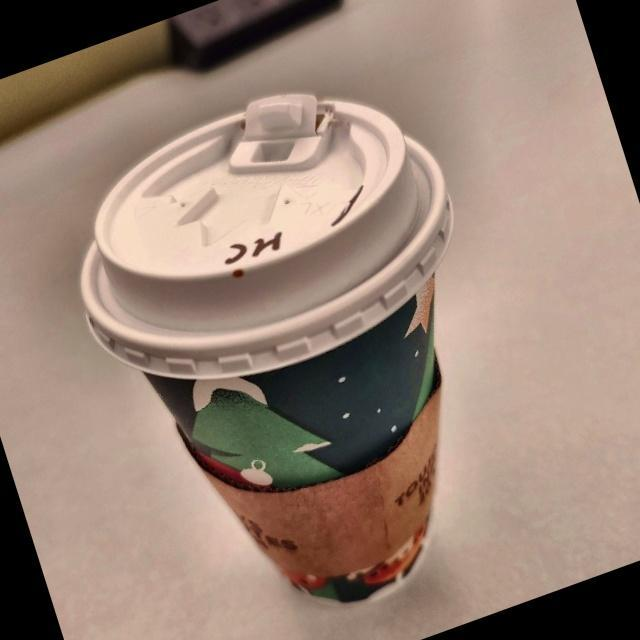timmies: (75, 82, 462, 610)
